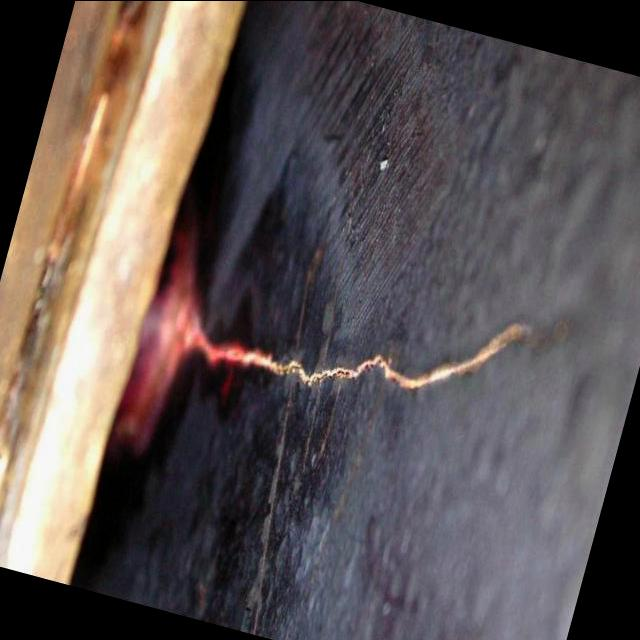defect: (183, 314, 573, 394)
